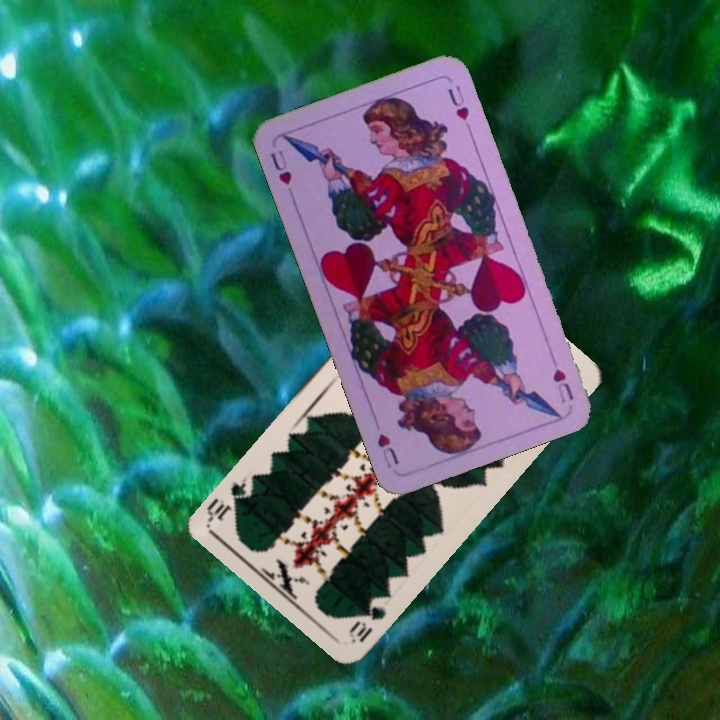G10: (344, 600, 389, 645)
HU: (546, 349, 576, 406), (266, 145, 295, 188)
